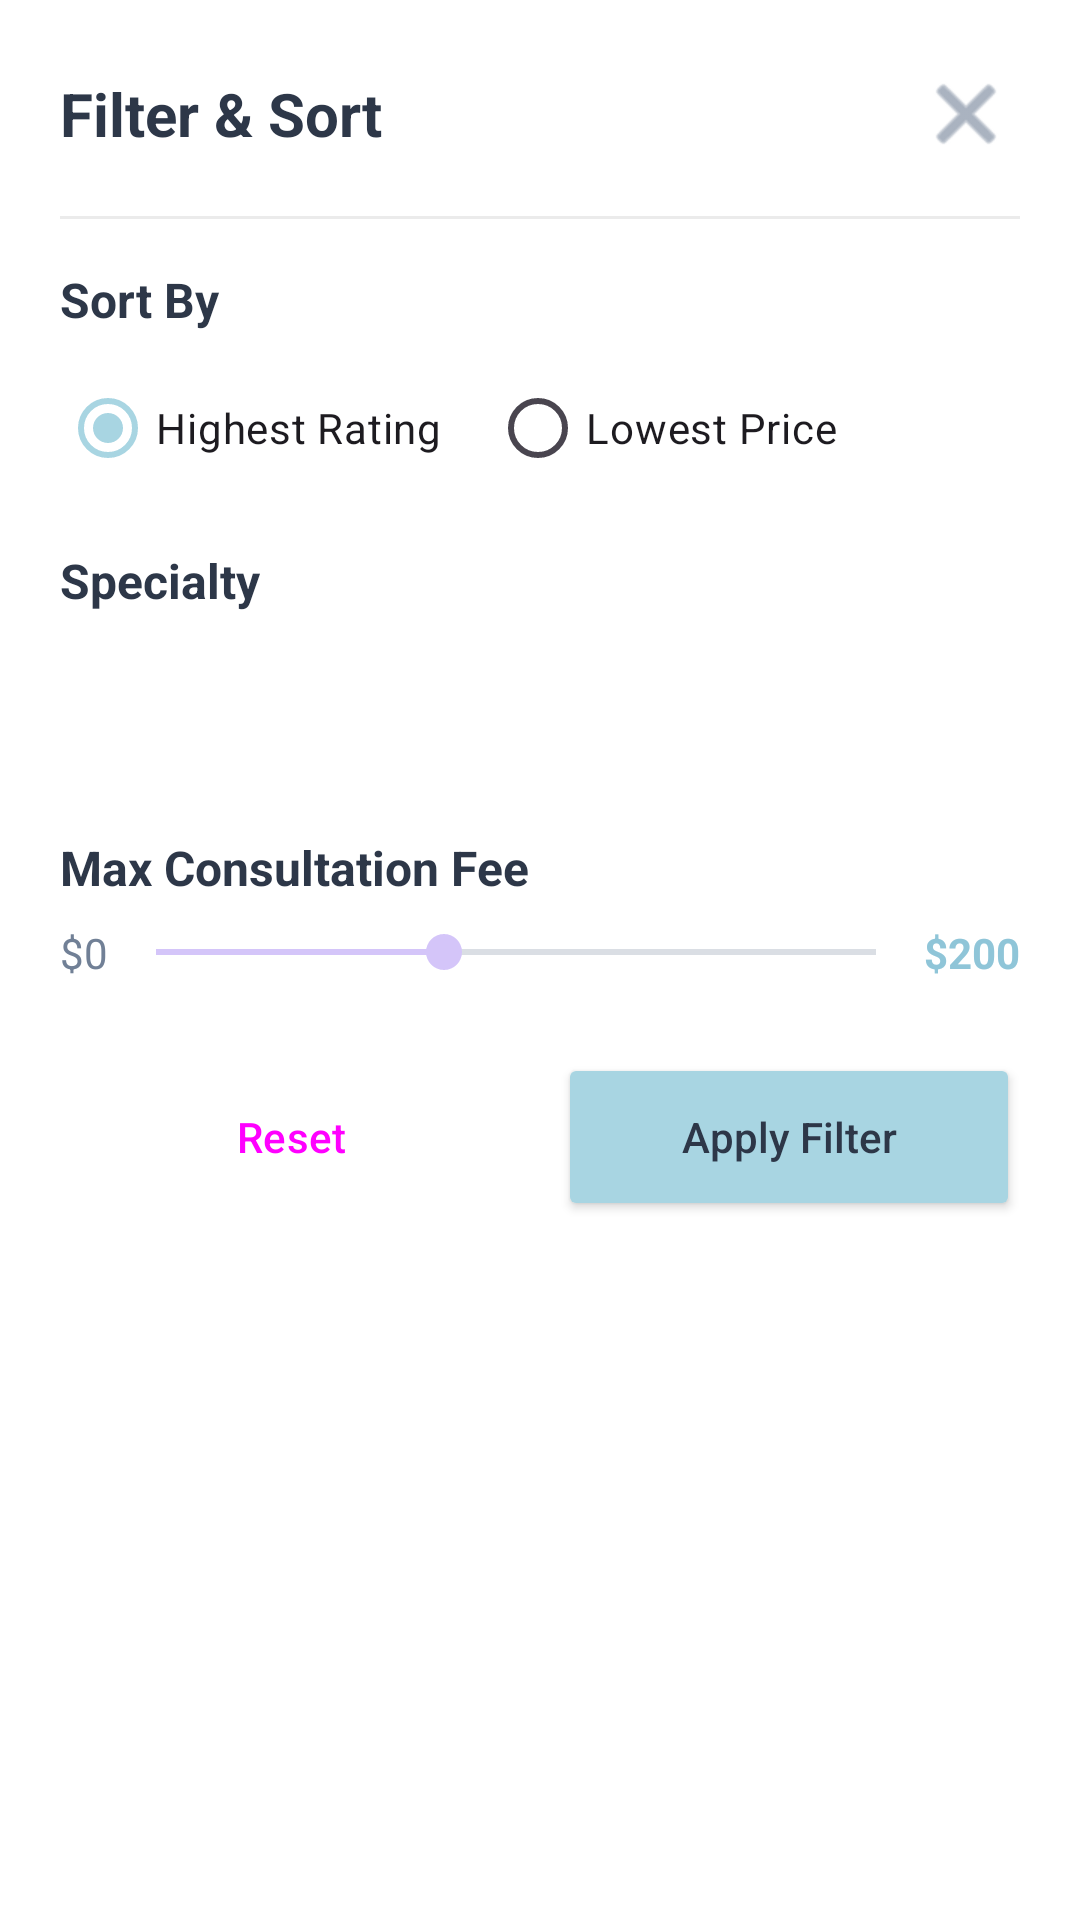

Named icons in this screenshot (1080×1920) and their centers, [x,y]:
close clear cancel: [966,114]
